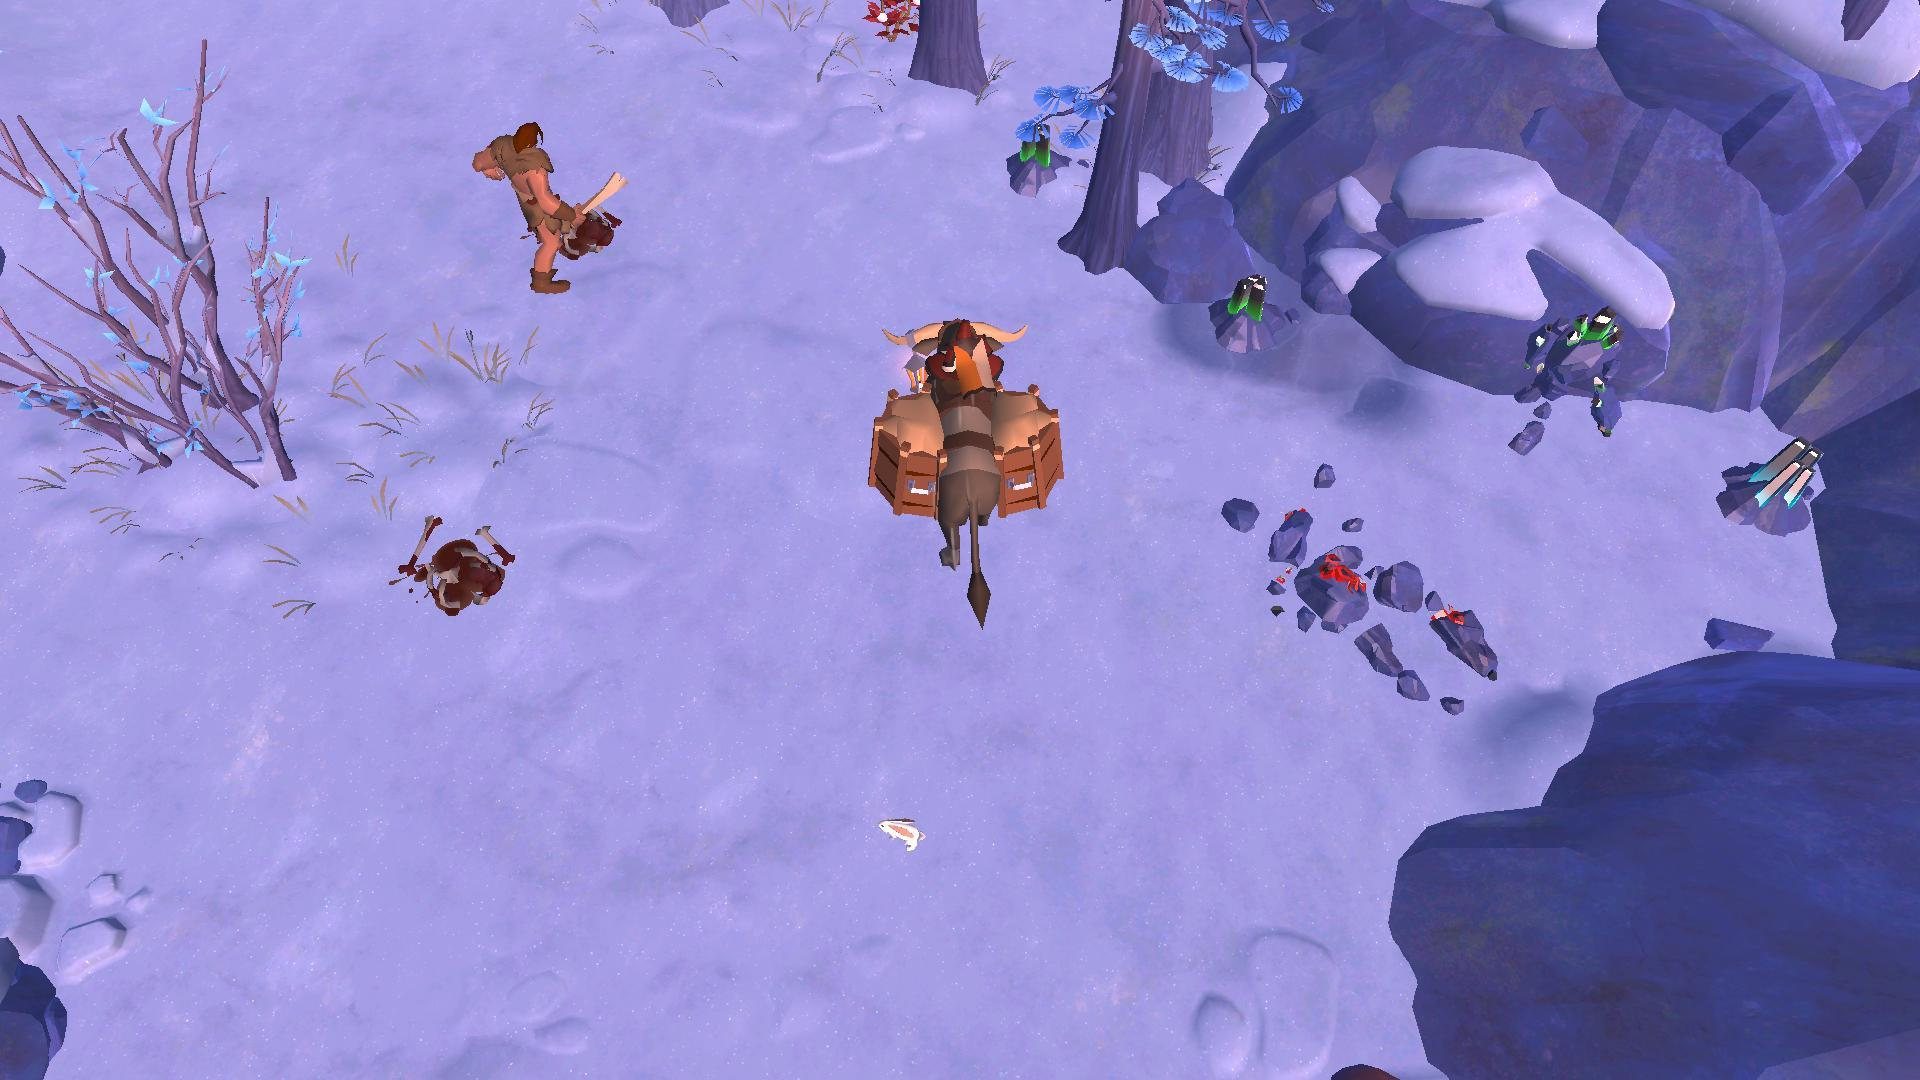enemy_factionKeeper: (479, 116, 616, 298)
fiber_t5: (848, 0, 934, 46)
ore_t3: (1221, 272, 1275, 326), (1014, 111, 1054, 169)
ore_t4: (1746, 434, 1829, 516)
